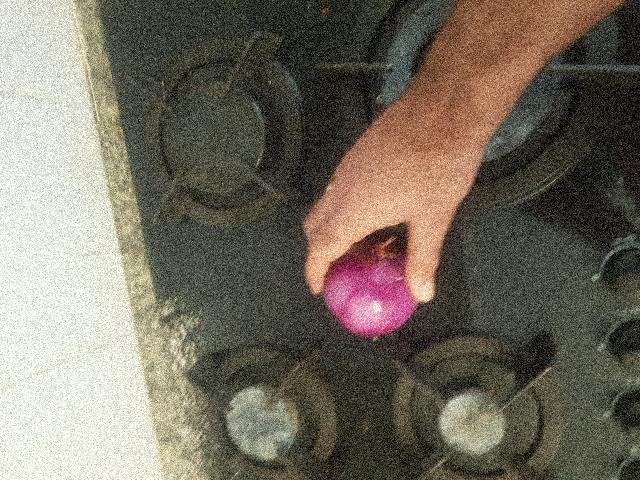onion: (138, 322, 236, 419)
